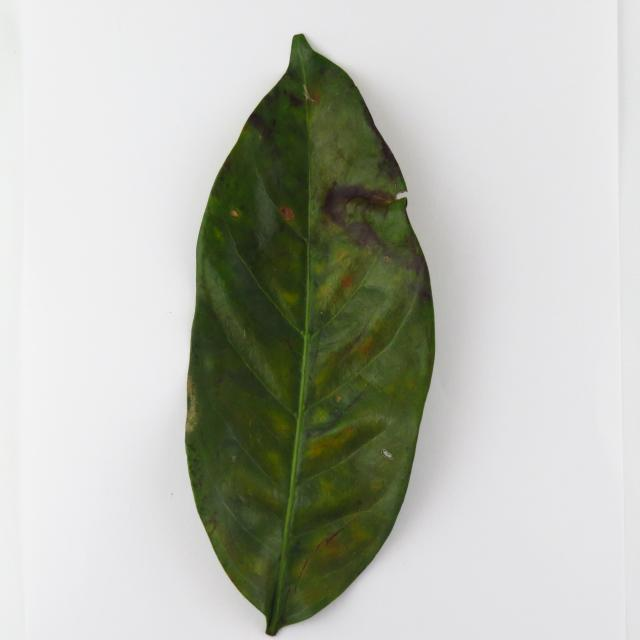DeficienciaNutricional-Potasio: (186, 35, 435, 635)
